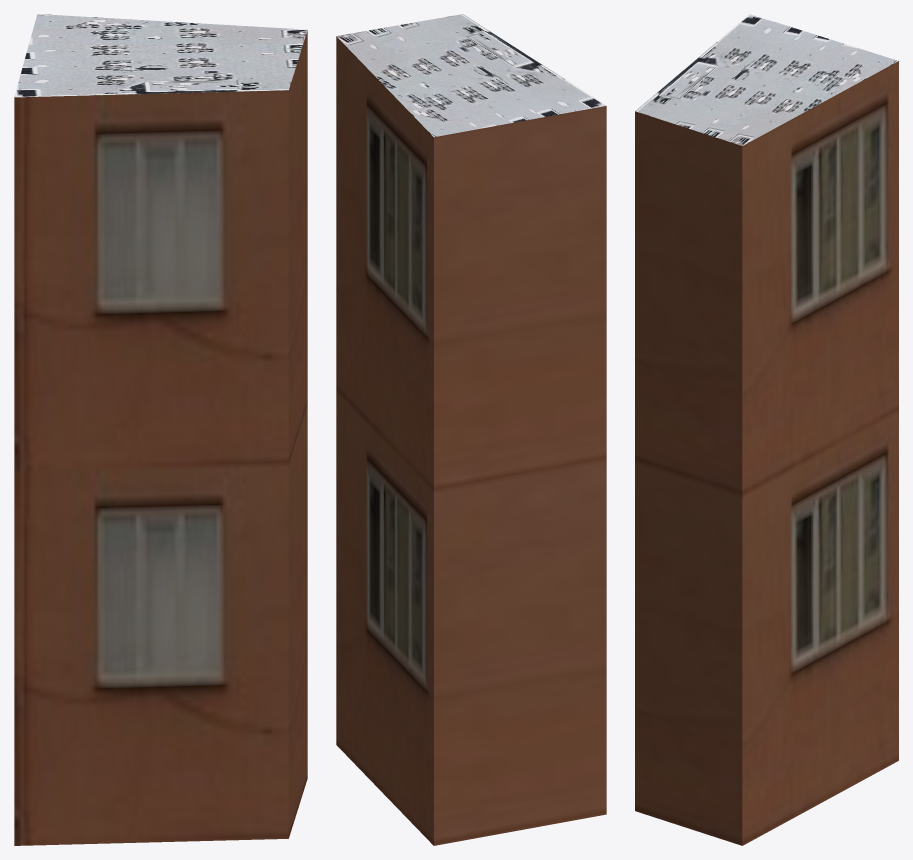
Rendered from ResTex__2114.fbx.
The picture shows the model from 3 angles, left to right: view 1: azimuth 30°, elevation 25°; view 2: azimuth 150°, elevation 25°; view 3: azimuth 270°, elevation 25°; orthographic projection. The views are drawn at different scales.
Parts seen in each view (by area): view 1: CityEngineMaterial_20_m, CityEngineMaterial_m; view 2: CityEngineMaterial_20_m, CityEngineMaterial_m; view 3: CityEngineMaterial_20_m, CityEngineMaterial_m.
Part boxes in pixels (<box>): CityEngineMaterial_20_m: <box>14,31,307,845</box>; CityEngineMaterial_m: <box>14,14,307,97</box>; CityEngineMaterial_20_m: <box>336,36,606,845</box>; CityEngineMaterial_m: <box>336,14,606,136</box>; CityEngineMaterial_20_m: <box>635,61,898,845</box>; CityEngineMaterial_m: <box>635,14,898,145</box>.
Bounding box in the file's own units: 2.43 × 6 × 2.05.
2 materials, 2 textured.
